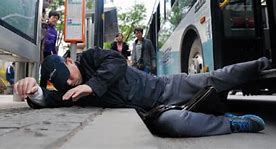fall: (0, 40, 276, 140)
